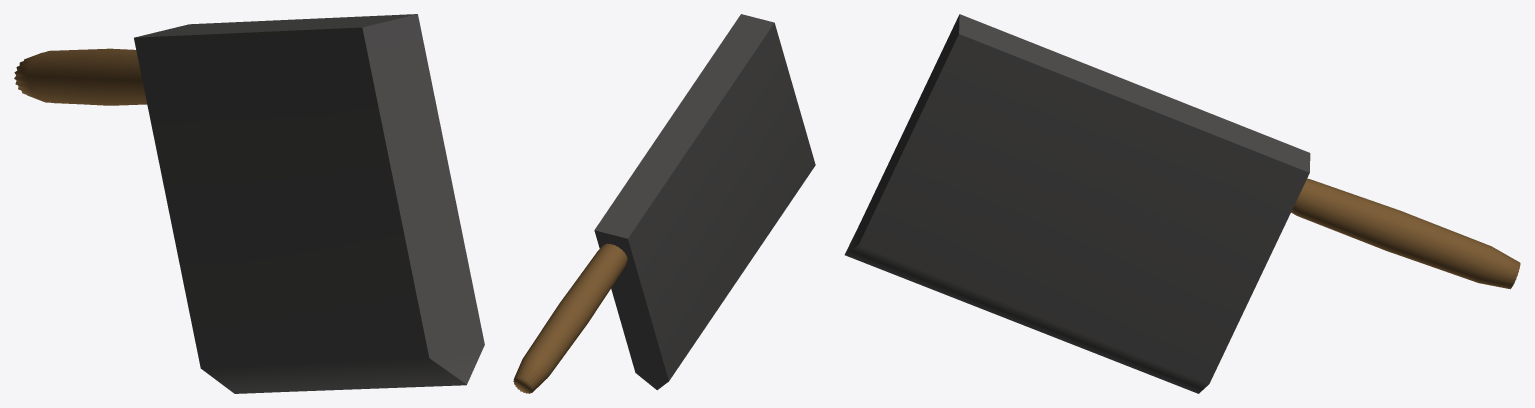
The model's file is Hachoir.fbx.
3 renders of one model, left to right at view 1: azimuth 30°, elevation 25°; view 2: azimuth 150°, elevation 25°; view 3: azimuth 270°, elevation 25°, orthographic. The views are drawn at different scales.
Parts seen in each view (by area): view 1: Hachoir1; view 2: Hachoir1; view 3: Hachoir1.
Part boxes in pixels (x1,y1,x2,y2): Hachoir1: (14, 14, 484, 393); Hachoir1: (513, 14, 815, 393); Hachoir1: (844, 14, 1520, 393).
Bounding box in the file's own units: 11.25 × 84.71 × 141.
